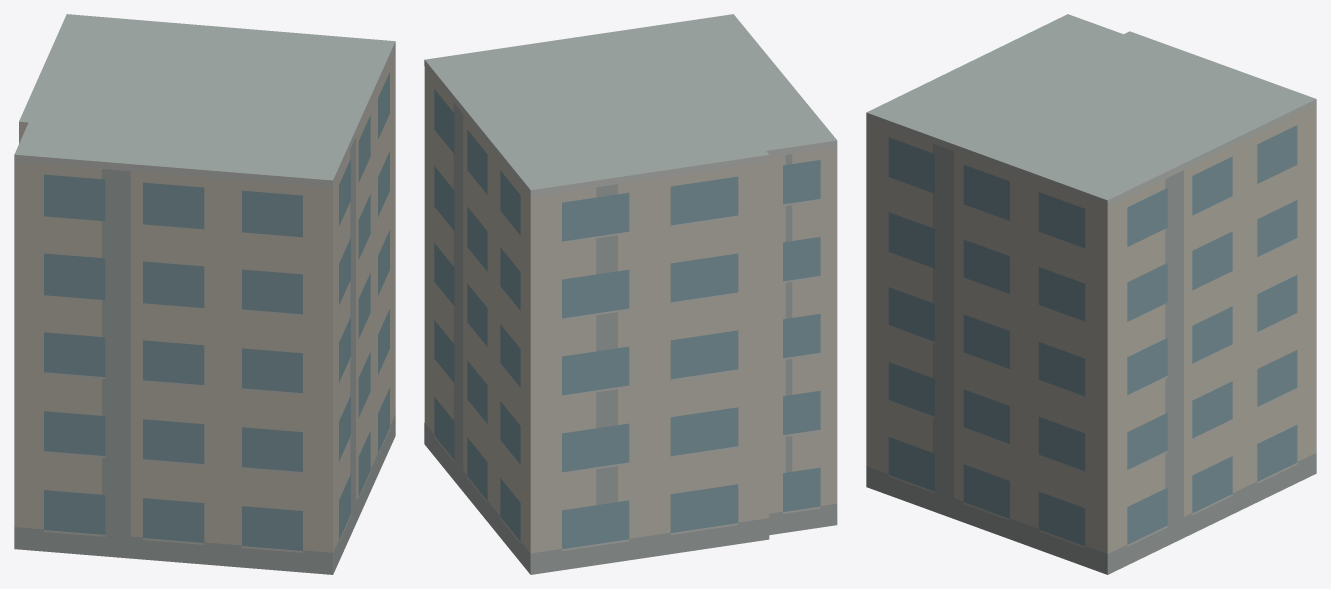
Rendered from survey-upis-32620900.glb.
3 views of the same model, side by side, from view 1: azimuth 30°, elevation 25°; view 2: azimuth 150°, elevation 25°; view 3: azimuth 270°, elevation 25° (orthographic). The views are drawn at different scales.
Visible parts, largest first — view 1: survey-upis-32620900.tmp; view 2: survey-upis-32620900.tmp; view 3: survey-upis-32620900.tmp.
Boxes of the visible parts, x1,y1,x2,y2 form: survey-upis-32620900.tmp: (14,14,395,574); survey-upis-32620900.tmp: (424,14,837,574); survey-upis-32620900.tmp: (866,14,1316,574).
Bounding box in the file's own units: 14.52 × 13.6 × 14.83.
